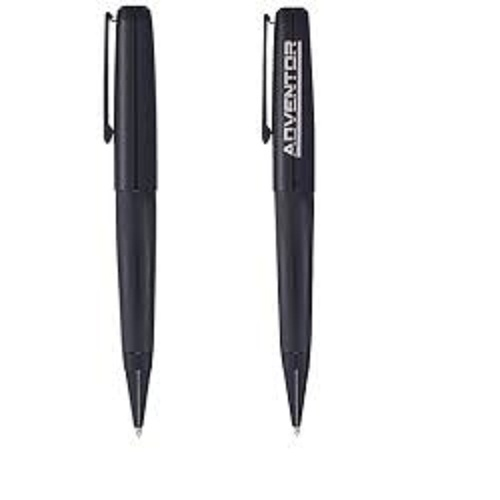Boligrafo: (98, 3, 160, 438), (261, 3, 321, 435)
